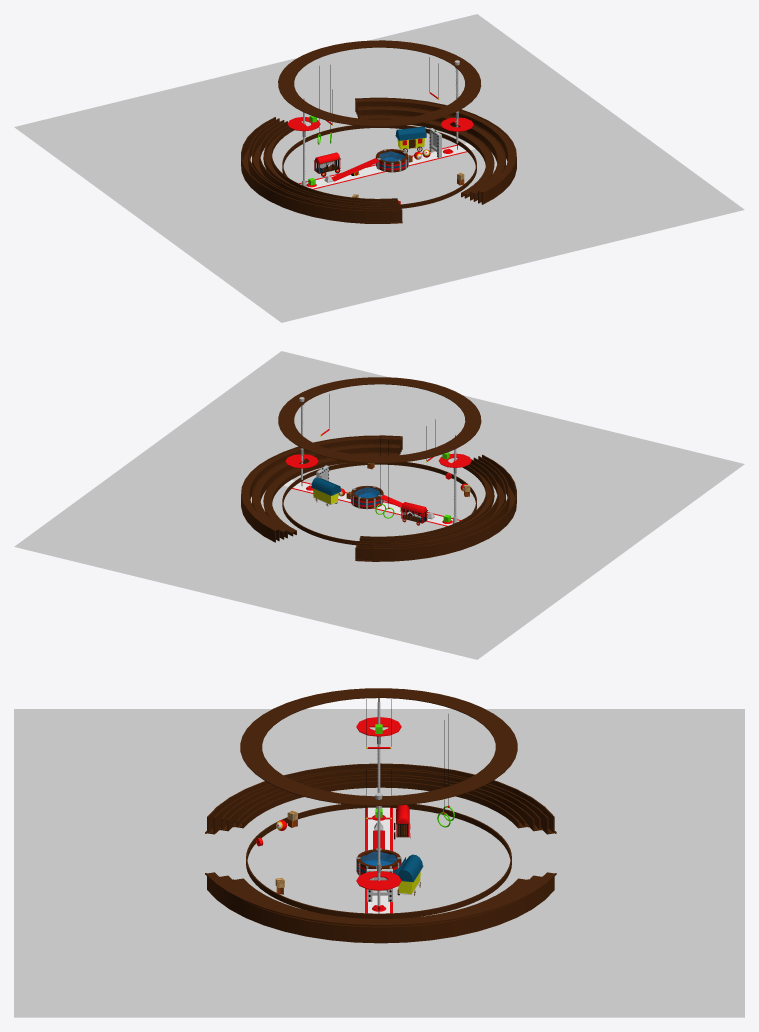
The model's file is Circo-sincarpa.FBX.
3 renders of one model, top to bottom at view 1: azimuth 30°, elevation 25°; view 2: azimuth 150°, elevation 25°; view 3: azimuth 270°, elevation 25°, orthographic. The views are drawn at different scales.
Parts seen in each view (by area): view 1: Plane001, Tube001, Tube027, Tube040, Tube037, Tube020, Tube032, Tube019, Tube029, Plano, Tube036, Piscina (+6 smaller); view 2: Plane001, Tube001, Tube027, Tube040, Tube037, Tube020, Tube032, Tube019, Tube029, Tube036, Piscina, Tube017 (+7 smaller); view 3: Plane001, Tube001, Tube039, Tube040, Tube037, Tube027, Tube024, Tube017, Tube022, Tube019, Tube020, Tube029 (+6 smaller).
Part boxes in pixels (left/top/right/bottom): Plane001: left=14, top=14, right=744, bottom=322; Tube001: left=278, top=40, right=481, bottom=126; Tube027: left=241, top=117, right=402, bottom=222; Tube040: left=282, top=125, right=476, bottom=208; Tube037: left=355, top=98, right=515, bottom=193; Tube020: left=248, top=118, right=401, bottom=210; Tube032: left=357, top=106, right=504, bottom=194; Tube019: left=259, top=121, right=399, bottom=206; Tube029: left=359, top=115, right=493, bottom=195; Plano: left=300, top=143, right=475, bottom=188; Tube036: left=356, top=101, right=508, bottom=203; Piscina: left=375, top=149, right=408, bottom=172; Plane001: left=14, top=351, right=744, bottom=659; Tube001: left=278, top=377, right=481, bottom=463; Tube027: left=355, top=454, right=516, bottom=560; Tube040: left=282, top=462, right=476, bottom=545; Tube037: left=242, top=436, right=402, bottom=531; Tube020: left=356, top=456, right=509, bottom=548; Tube032: left=253, top=444, right=400, bottom=532; Tube019: left=358, top=459, right=498, bottom=543; Tube029: left=264, top=453, right=398, bottom=532; Tube036: left=249, top=439, right=401, bottom=541; Piscina: left=351, top=485, right=383, bottom=509; Tube017: left=360, top=465, right=486, bottom=538; Plane001: left=14, top=709, right=744, bottom=1017; Tube001: left=240, top=688, right=517, bottom=805; Tube039: left=207, top=876, right=554, bottom=943; Tube040: left=246, top=804, right=511, bottom=918; Tube037: left=205, top=872, right=556, bottom=926; Tube027: left=207, top=763, right=554, bottom=832; Tube024: left=221, top=770, right=540, bottom=829; Tube017: left=242, top=781, right=519, bottom=827; Tube022: left=236, top=777, right=525, bottom=826; Tube019: left=227, top=774, right=534, bottom=830; Tube020: left=213, top=768, right=548, bottom=833; Tube029: left=235, top=878, right=526, bottom=920.
Bounding box in the file's own units: 5000 × 984 × 5000.
